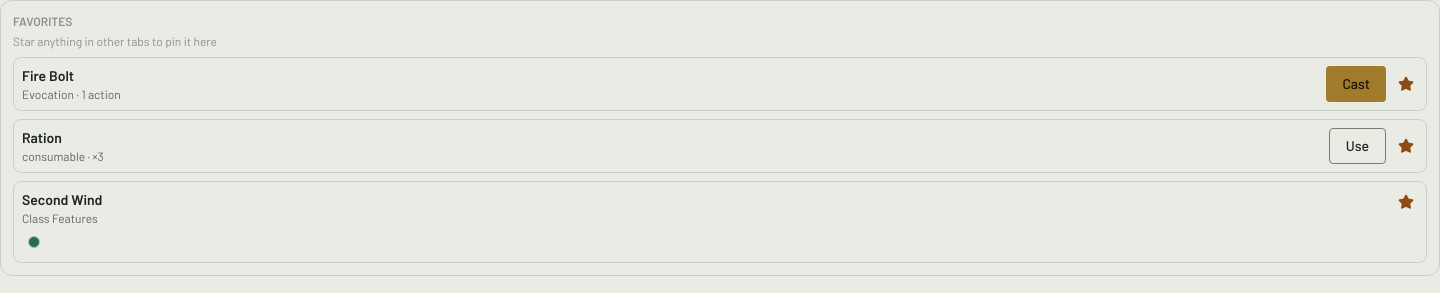
OverviewFavorites › removes a row when its star is unpinned
Check: the text "Fire Bolt" is shown, box [22, 67, 74, 84]
Click the button named "Unpin Fire Bolt".
click(1406, 84)  # box [1394, 72, 1418, 96]
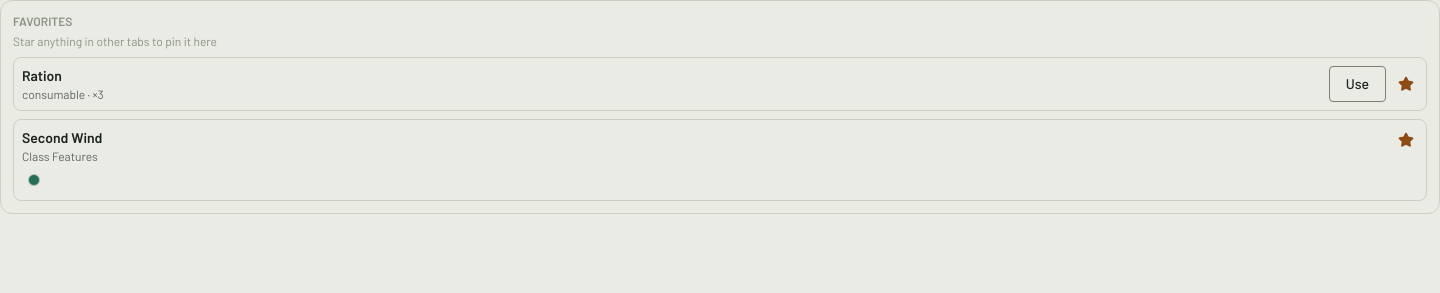
Check: the text "Fire Bolt" is gone
